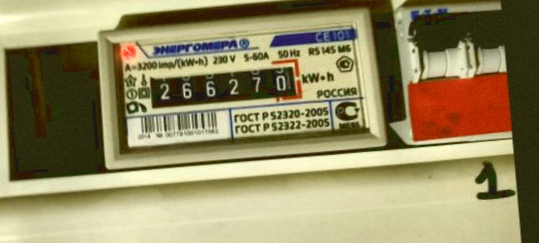0: (272, 72, 285, 93)
2: (156, 80, 171, 102), (226, 76, 239, 97)
6: (179, 80, 192, 101), (203, 78, 216, 98)
7: (249, 74, 262, 94)
screen: (134, 51, 311, 122)
